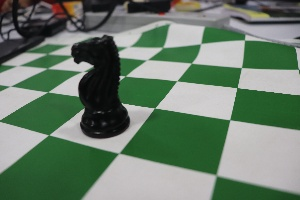black_horse: (61, 21, 133, 145)
